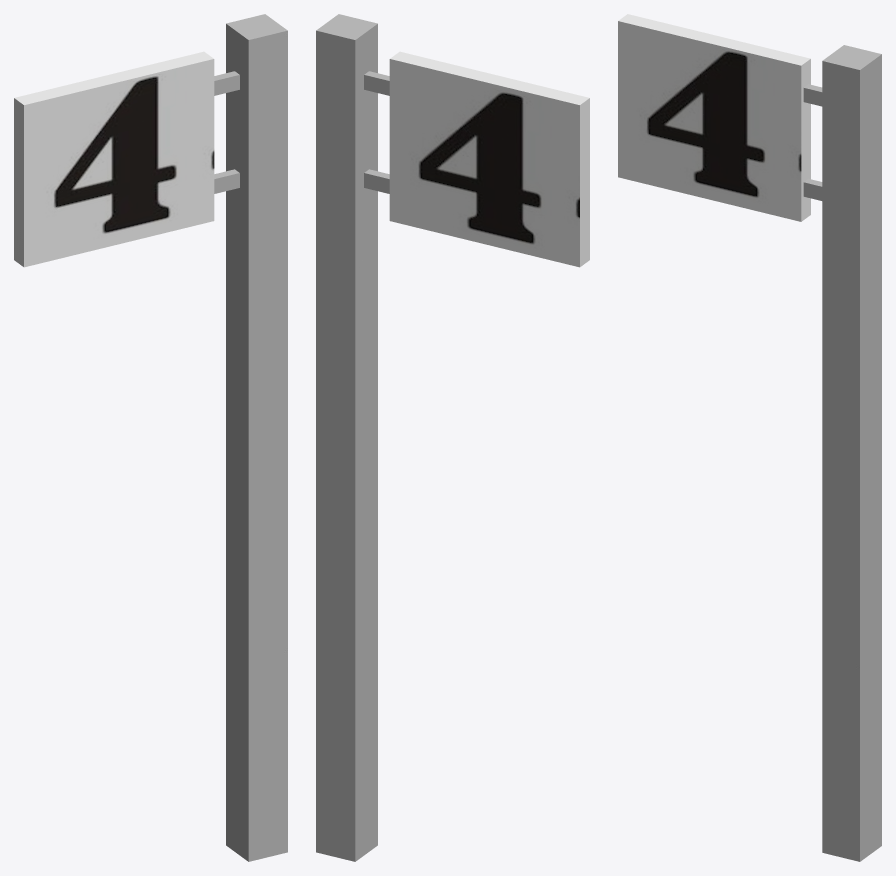
The model's file is PlatformNumber4.FBX.
The picture shows the model from 3 angles, left to right: view 1: azimuth 30°, elevation 25°; view 2: azimuth 150°, elevation 25°; view 3: azimuth 330°, elevation 25°; orthographic projection. The views are drawn at different scales.
Parts seen in each view (by area): view 1: Numer peronu007; view 2: Numer peronu007; view 3: Numer peronu007.
Part boxes in pixels (left/top/right/bottom): Numer peronu007: left=14, top=14, right=287, bottom=861; Numer peronu007: left=316, top=14, right=589, bottom=861; Numer peronu007: left=618, top=14, right=881, bottom=861.
Size of the model in its own units: 2374 by 362 by 7241.
Materials: 1 (1 with a texture image).
